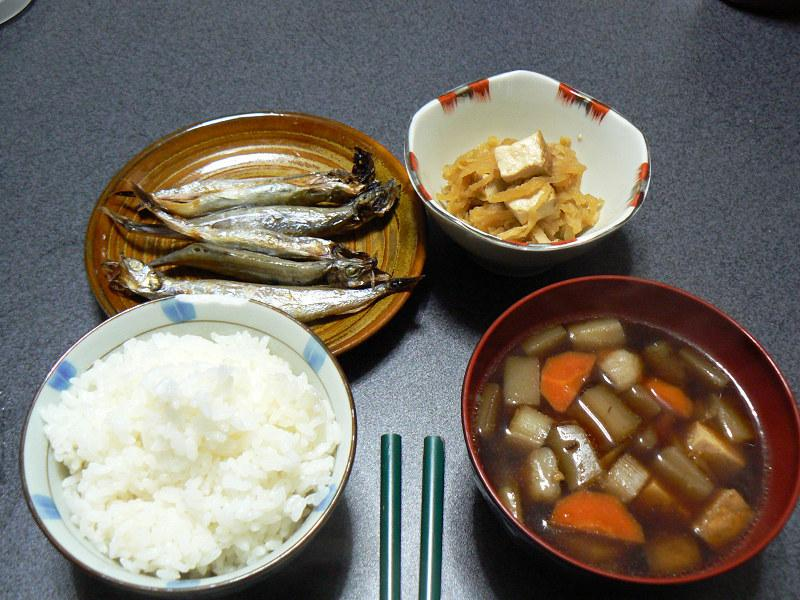plate: (84, 114, 426, 356)
rice: (42, 332, 342, 580)
